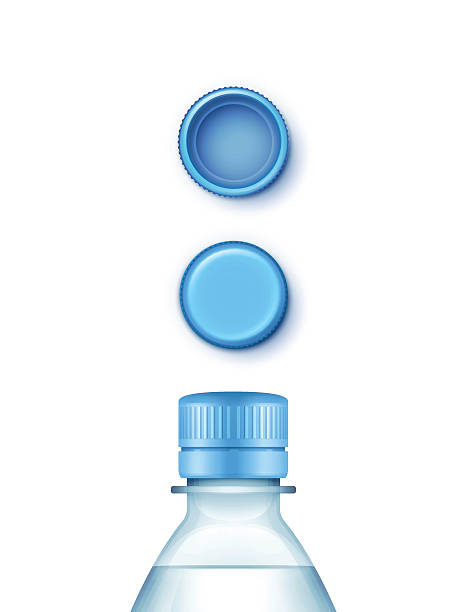HDPE Cap: (176, 84, 290, 198), (177, 239, 290, 349), (176, 391, 290, 449)
HDPE Ring: (177, 449, 289, 478)
